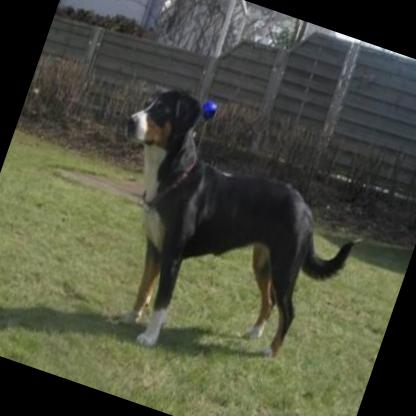EntleBucher: (55, 72, 389, 404)
